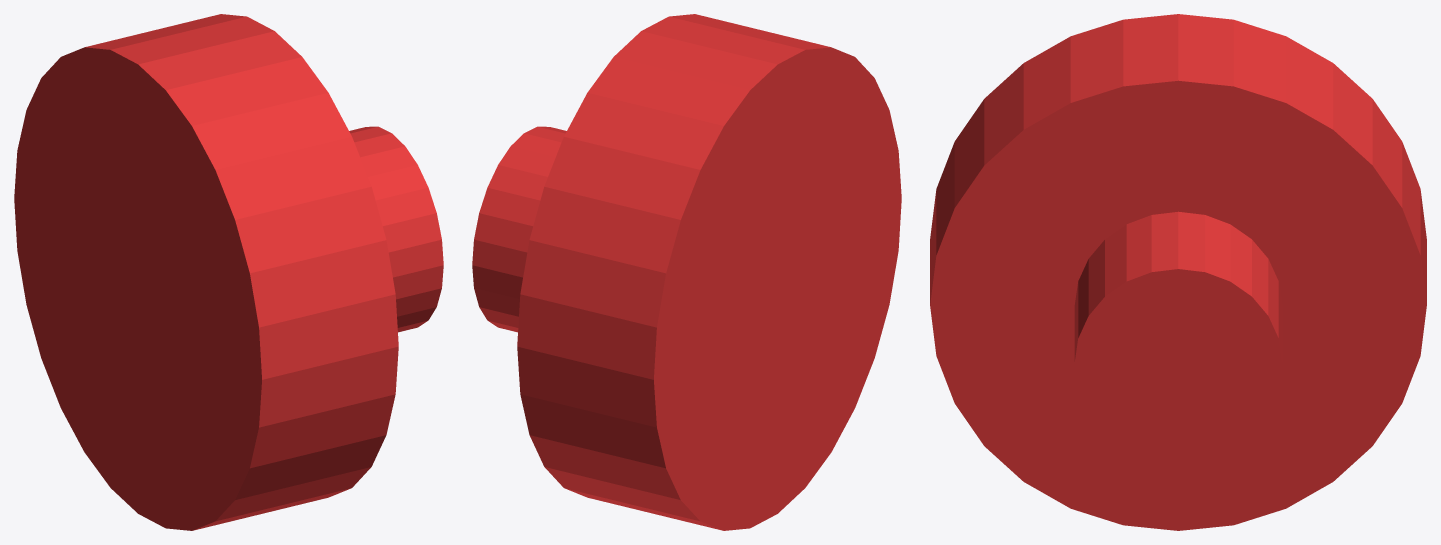
Rendered from 20_wheel_retainer_x4.glb.
3 views of the same model, side by side, from view 1: azimuth 30°, elevation 25°; view 2: azimuth 150°, elevation 25°; view 3: azimuth 270°, elevation 25° (orthographic).
Visible parts, largest first — view 1: Wheel retainer; view 2: Wheel retainer; view 3: Wheel retainer.
Boxes of the visible parts, x1,y1,x2,y2 form: Wheel retainer: [14, 14, 443, 530]; Wheel retainer: [472, 14, 901, 530]; Wheel retainer: [930, 14, 1426, 530].
Bounding box in the file's own units: 0.0026 × 0.0044 × 0.0044.
